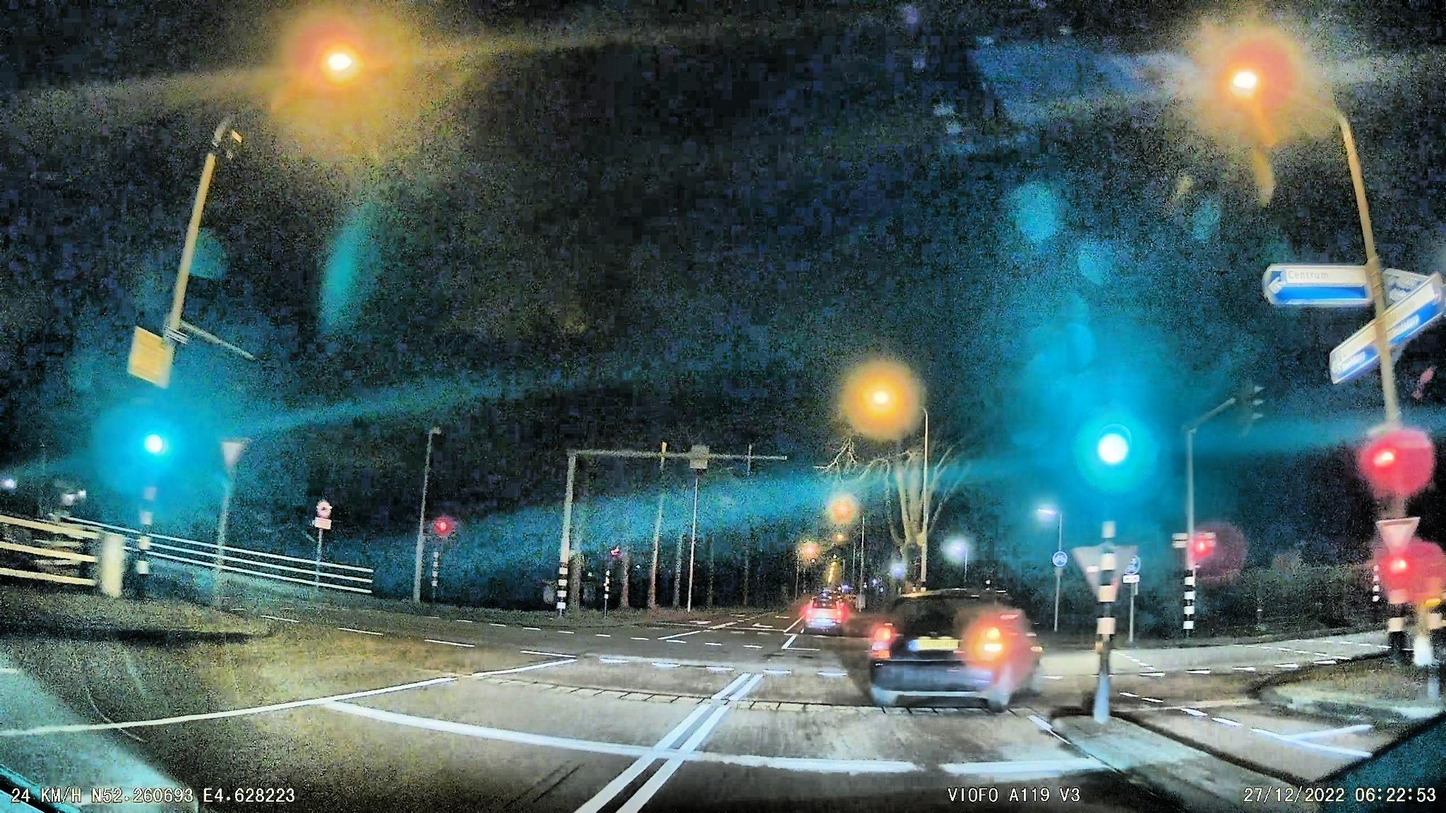Roads: (0, 612, 1146, 813)
